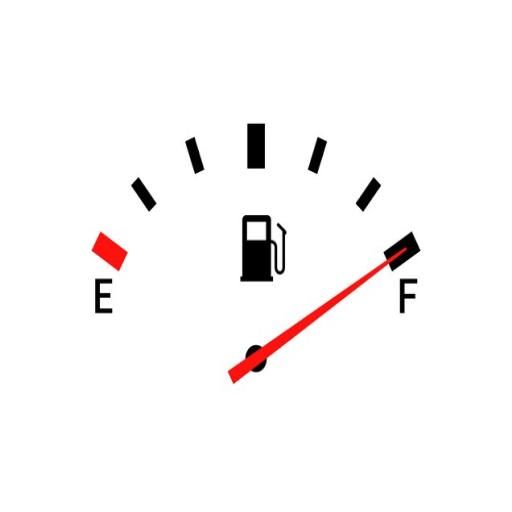empty: (94, 272, 113, 317)
fuel_icon: (239, 213, 286, 283)
full: (399, 277, 418, 315)
guage_area: (84, 116, 430, 408)
needle_center: (241, 341, 275, 379)
needle_tip: (383, 244, 416, 269)
